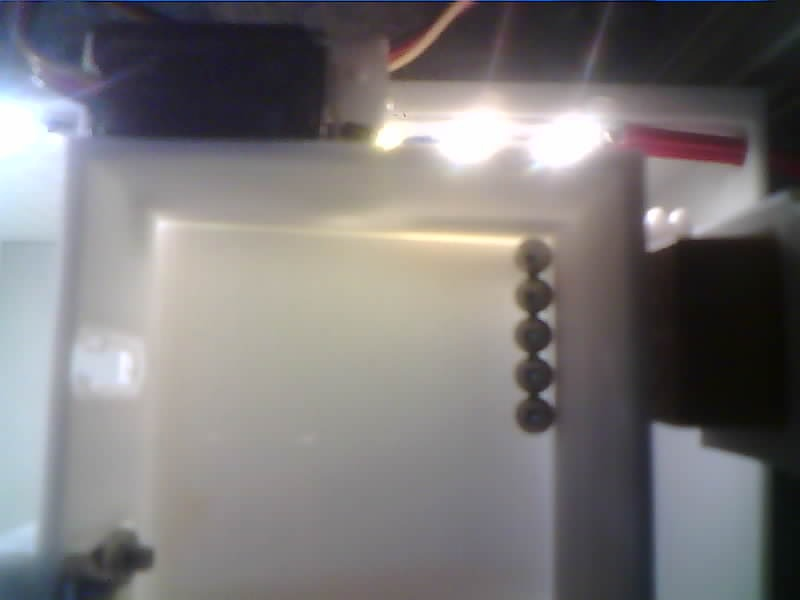Metal: (514, 395, 554, 435), (512, 357, 552, 396), (512, 319, 554, 354), (516, 279, 553, 314), (517, 240, 551, 277)
